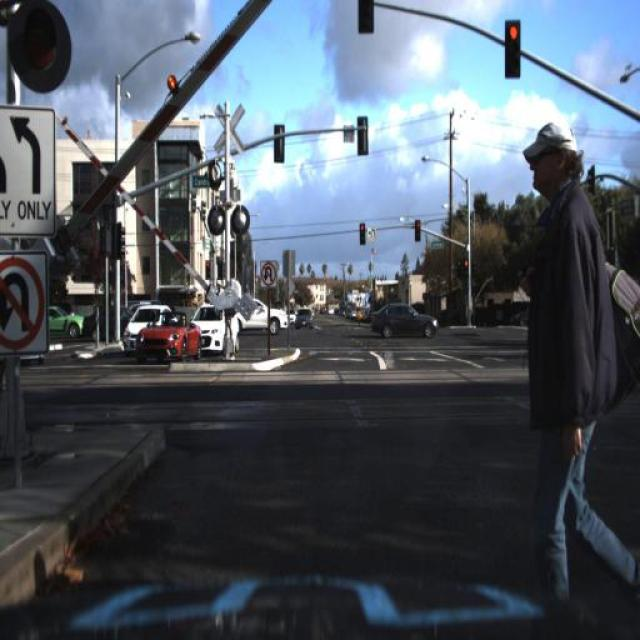car: (133, 310, 204, 359), (184, 298, 240, 358), (228, 292, 290, 341), (30, 296, 91, 345), (370, 302, 440, 341), (114, 304, 157, 355)
trafficLight: (516, 112, 636, 617), (523, 122, 639, 634)
trafficLight-Green: (15, 2, 66, 84), (356, 1, 376, 36)
trafficLight-RedLeft: (503, 20, 522, 78), (412, 213, 423, 246), (462, 252, 471, 284), (357, 219, 367, 246), (414, 216, 420, 242)
